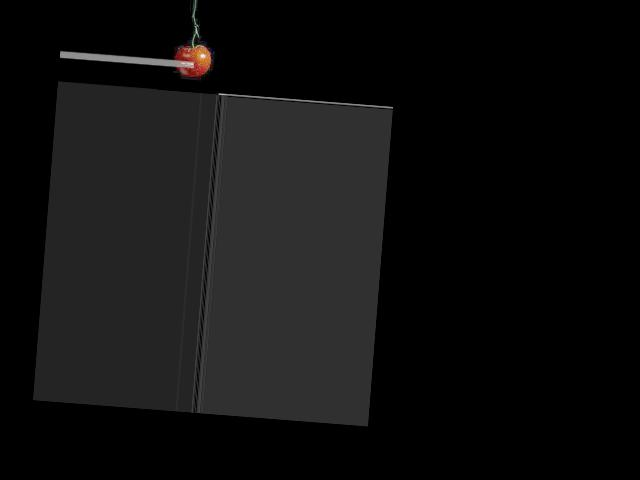tomato: (174, 44, 211, 76)
